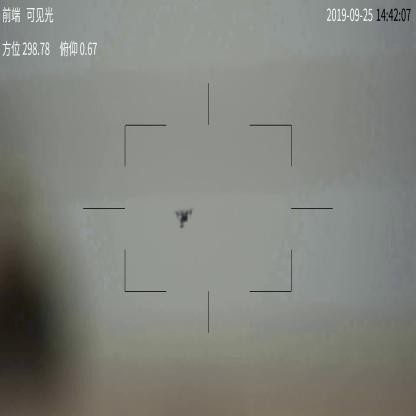uav: (173, 204, 196, 227)
